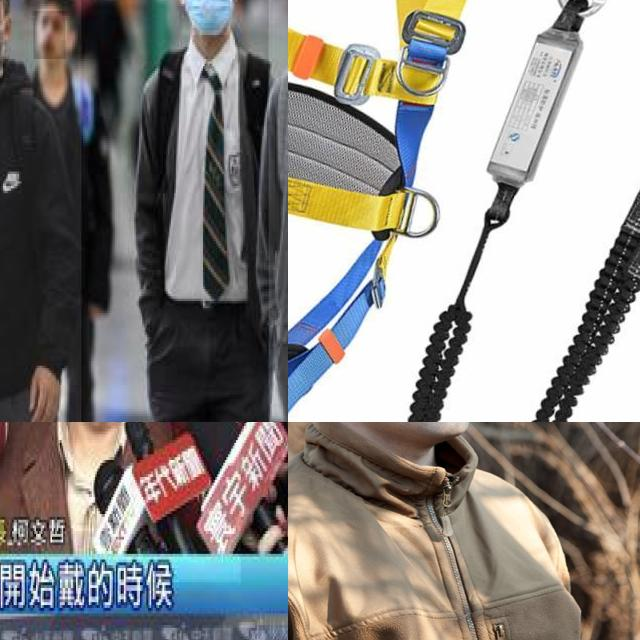Harness: (288, 0, 465, 217), (288, 227, 395, 410)
face_mask: (182, 0, 233, 37)
face_nomask: (33, 11, 67, 61)
hand_noglove: (25, 361, 65, 422)
person: (105, 0, 286, 422), (0, 422, 242, 585), (0, 0, 83, 422)
